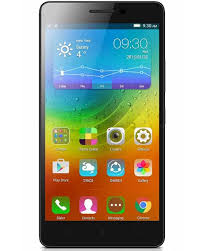lenovo: (37, 1, 169, 249)
